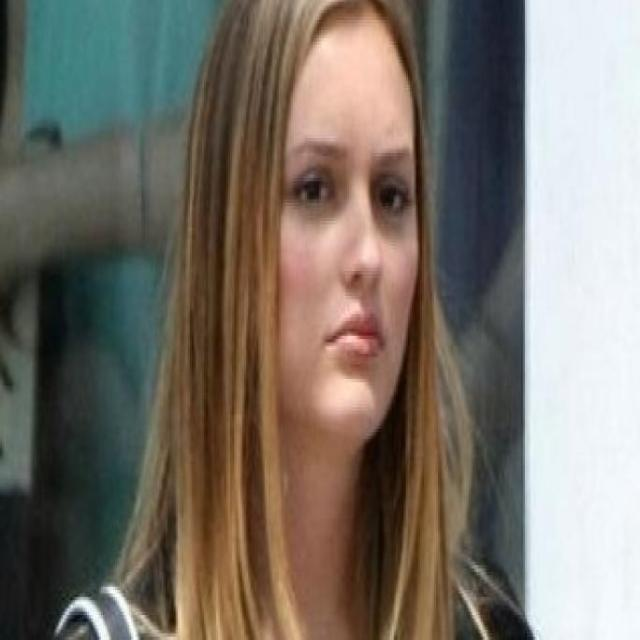human: (170, 5, 499, 640)
